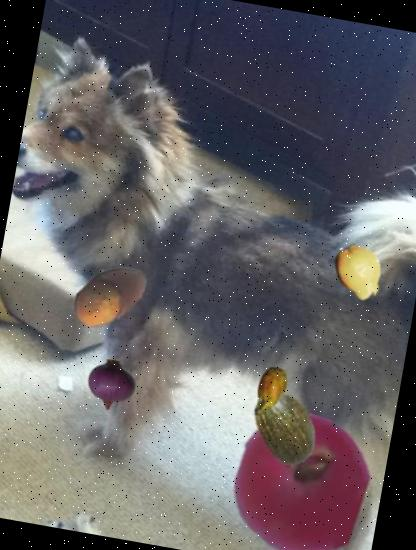Cactus: (238, 361, 301, 424)
Hazelnut: (61, 248, 158, 344)
Melon: (236, 382, 328, 473)
Onion: (82, 356, 140, 415)
Quince: (326, 238, 392, 304)
Redcurrant: (219, 402, 382, 550)
